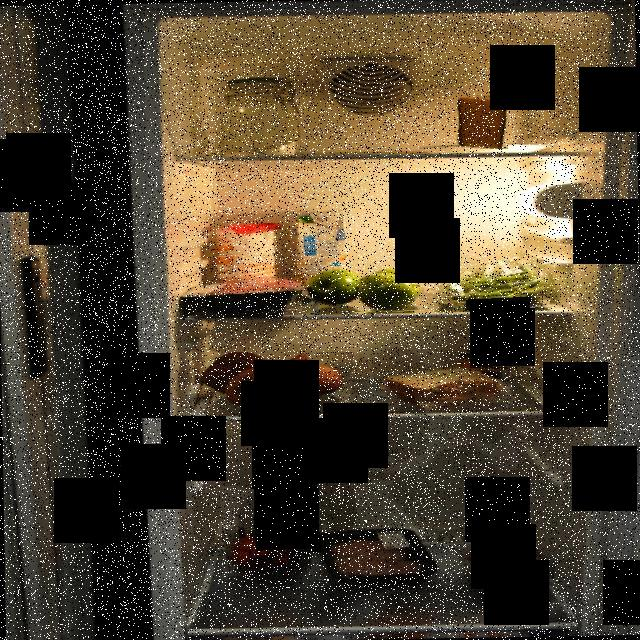apple: (298, 266, 424, 314)
bread: (381, 364, 508, 410)
cheese: (454, 93, 508, 149)
chicken_breast: (312, 526, 437, 592)
flour: (215, 72, 306, 159)
green_beans: (438, 260, 555, 312)
ground_beef: (176, 278, 302, 318)
milk: (292, 206, 349, 300)
shrimp: (460, 544, 560, 592)
strawberries: (226, 524, 312, 576)
sugar: (212, 223, 290, 299)
sweet_potato: (197, 352, 355, 415)
